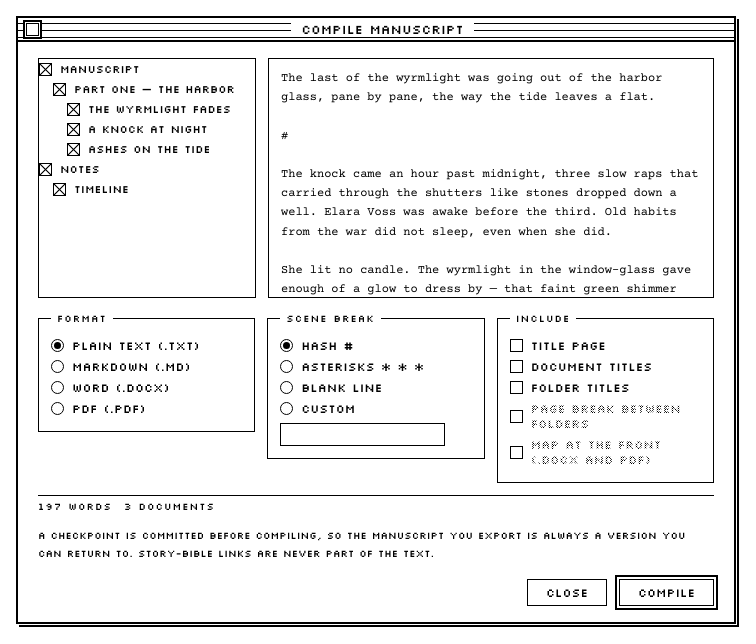
compile dialog › disables Compile when nothing is selected
This screenshot has width=756, height=644.
Click the checkbox labelled "Notes" at x=147, y=169, box x1=39 y1=159 x2=255 y2=179
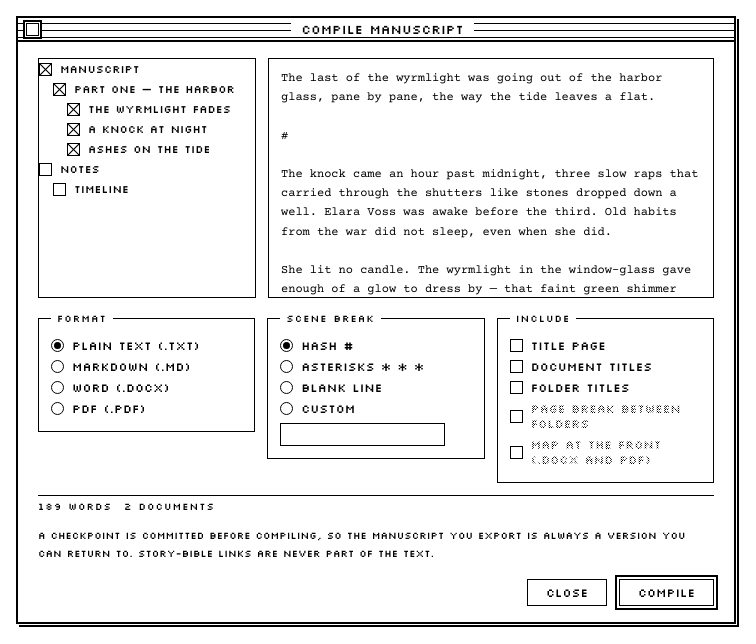
Click the checkbox labelled "Manuscript" at x=147, y=69, box x1=39 y1=59 x2=255 y2=79
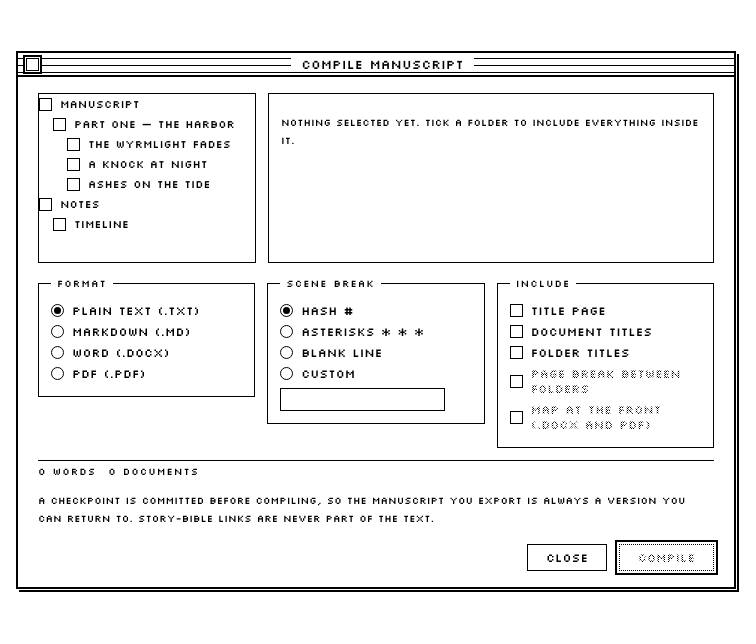
Result: the button "Compile" is disabled at x1=619 y1=544 x2=714 y2=571
Result: the text "Nothing selected yet" is shown at x1=281 y1=116 x2=698 y2=147
